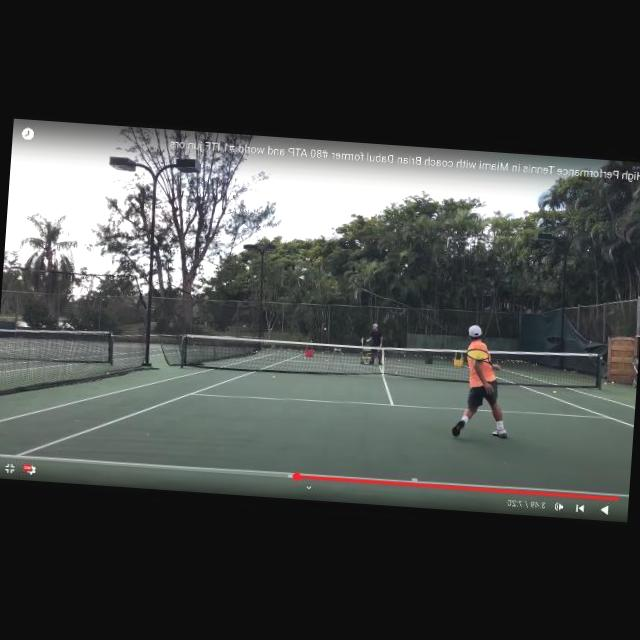Tennis Ball: (552, 391, 556, 394), (272, 376, 275, 379), (604, 382, 606, 385), (612, 382, 614, 384)
